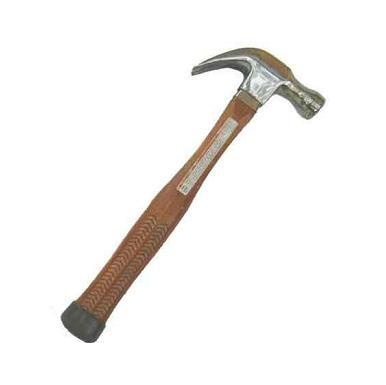hammer: (60, 39, 327, 343)
